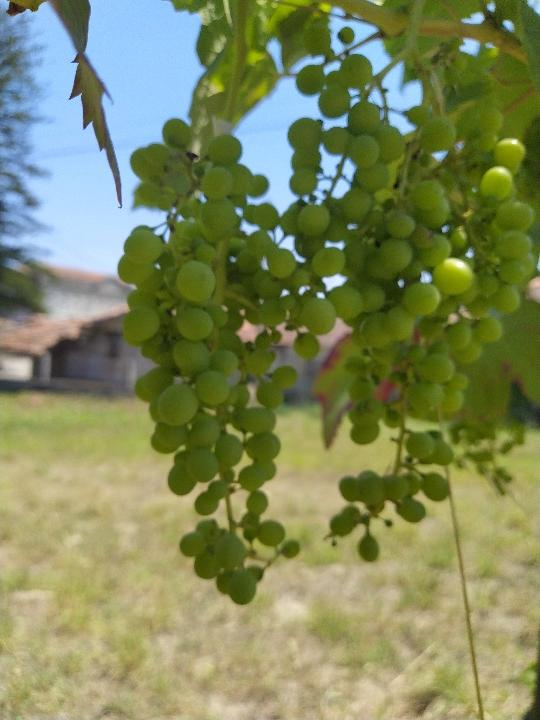grape: (286, 28, 534, 564), (115, 117, 319, 611)
